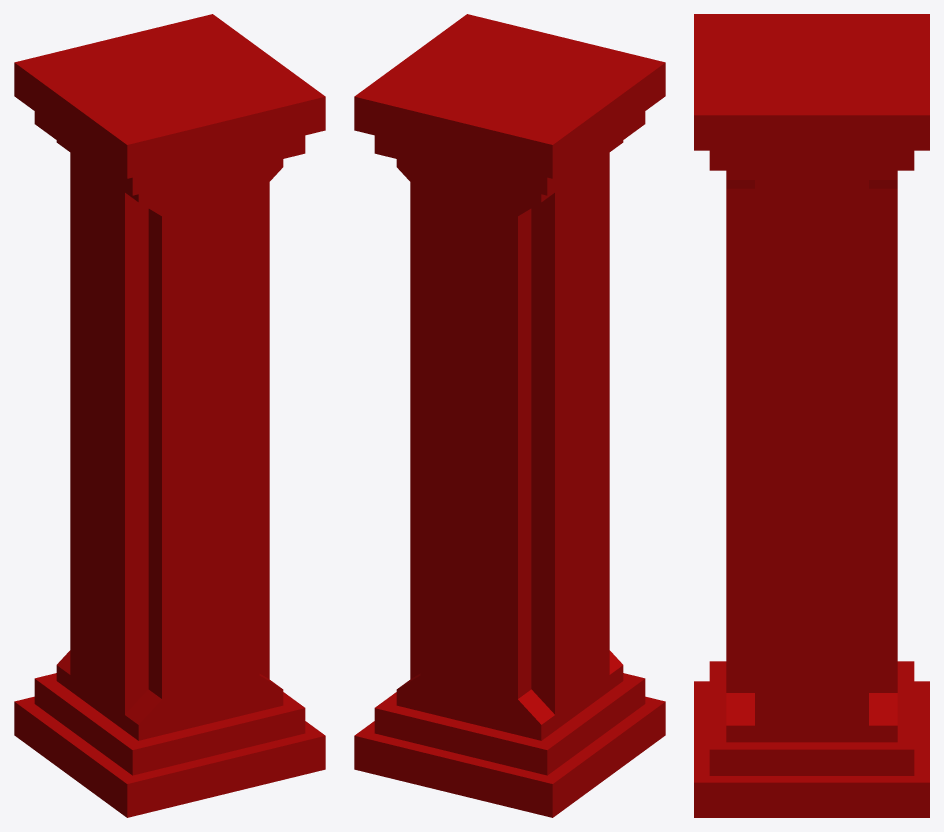
The model's file is Pillar.obj.
3 views of the same model, side by side, from view 1: azimuth 30°, elevation 25°; view 2: azimuth 150°, elevation 25°; view 3: azimuth 270°, elevation 25° (orthographic). The views are drawn at different scales.
Visible parts, largest first — view 1: pCube14; view 2: pCube14; view 3: pCube14.
Boxes of the visible parts, x1=… form: pCube14: x1=14, y1=14, x2=325, y2=817; pCube14: x1=354, y1=14, x2=665, y2=817; pCube14: x1=694, y1=14, x2=929, y2=817.
Size of the model in its own units: 1.02 by 3.29 by 1.
